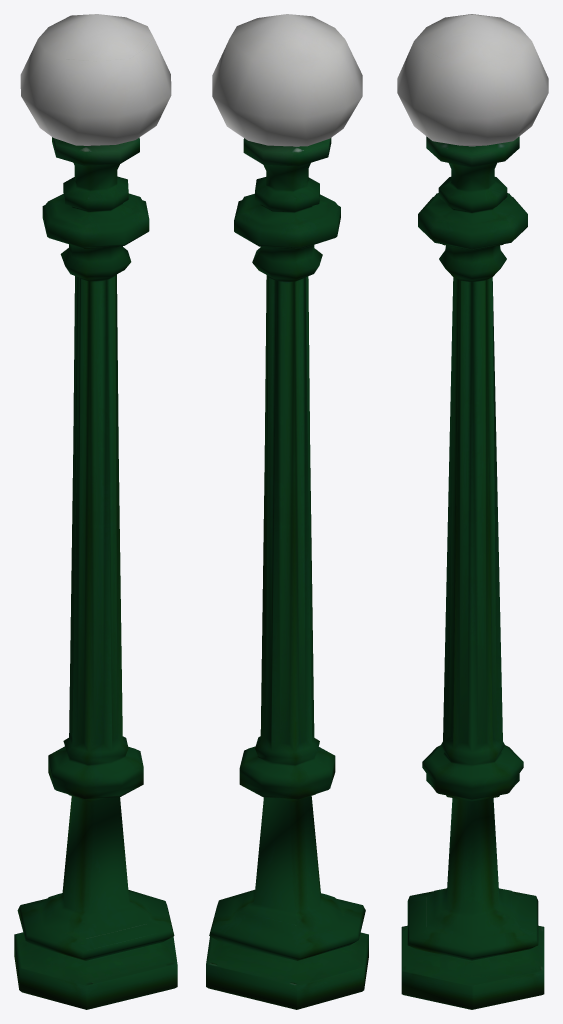
File: farola.glb
3 views of the same model, side by side, from view 1: azimuth 30°, elevation 25°; view 2: azimuth 150°, elevation 25°; view 3: azimuth 270°, elevation 25° (orthographic).
Parts seen in each view (by area): view 1: tripo_node_76b45a77-02e4-421d-929b-735f0aace468; view 2: tripo_node_76b45a77-02e4-421d-929b-735f0aace468; view 3: tripo_node_76b45a77-02e4-421d-929b-735f0aace468.
Boxes of the visible parts, box(x1,y1,x2,y2) form: tripo_node_76b45a77-02e4-421d-929b-735f0aace468: box(14, 14, 177, 1009); tripo_node_76b45a77-02e4-421d-929b-735f0aace468: box(206, 14, 368, 1009); tripo_node_76b45a77-02e4-421d-929b-735f0aace468: box(397, 14, 548, 1009).
Size of the model in its own units: 0.1663 by 1 by 0.1429.
1 material, 1 textured.
